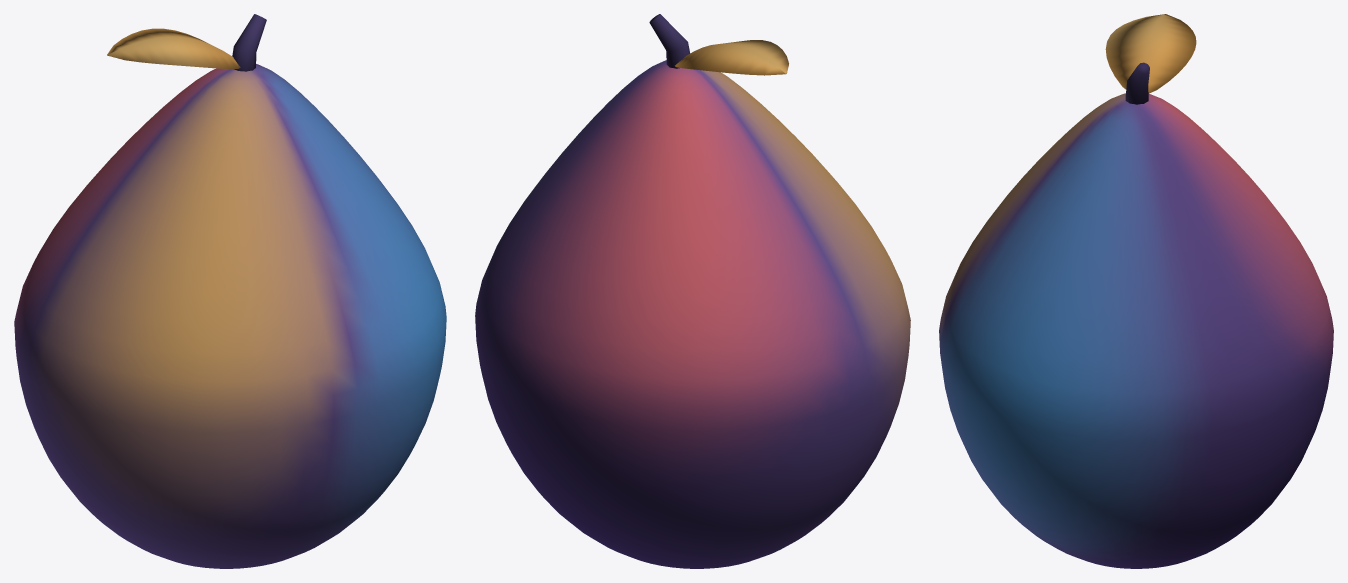
The model's file is Fusion_Fig.glb.
The picture shows the model from 3 angles, left to right: view 1: azimuth 30°, elevation 25°; view 2: azimuth 150°, elevation 25°; view 3: azimuth 270°, elevation 25°; orthographic projection. The views are drawn at different scales.
Visible parts, largest first — view 1: Fusion_Fig; view 2: Fusion_Fig; view 3: Fusion_Fig.
Boxes of the visible parts, x1,y1,x2,y2 form: Fusion_Fig: (14,14,446,568); Fusion_Fig: (475,14,910,568); Fusion_Fig: (939,14,1333,568).
Size of the model in its own units: 0.75 by 0.9982 by 0.71.
